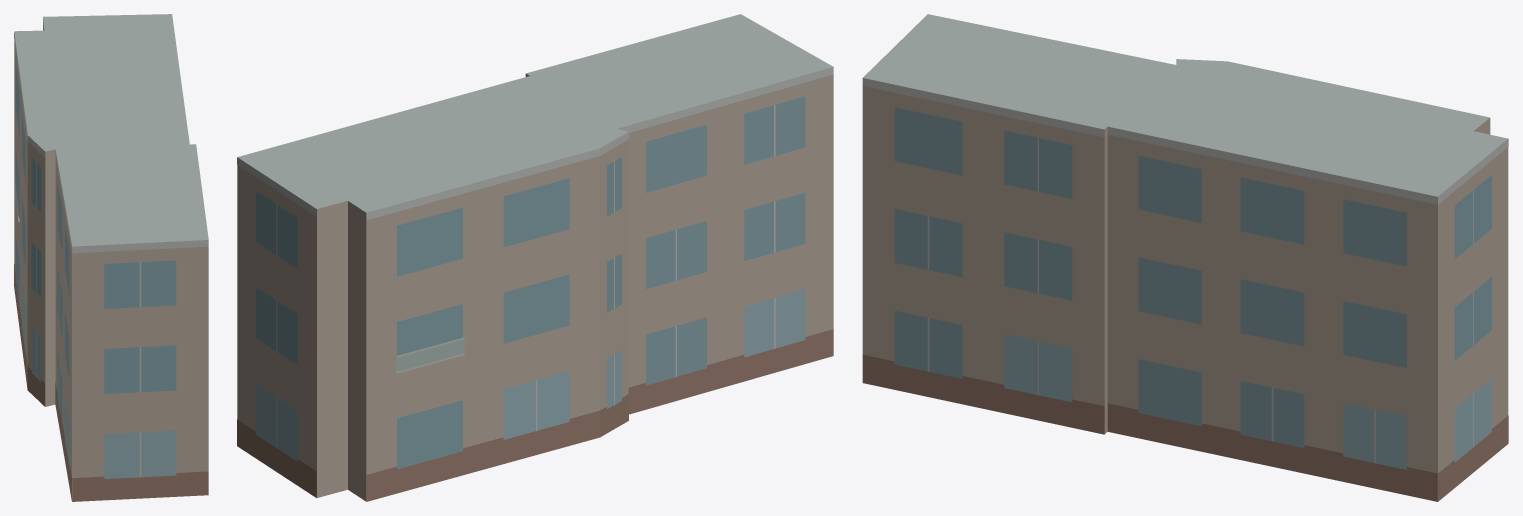
Rendered from survey-upis-32473530.glb.
The picture shows the model from 3 angles, left to right: view 1: azimuth 30°, elevation 25°; view 2: azimuth 150°, elevation 25°; view 3: azimuth 270°, elevation 25°; orthographic projection. The views are drawn at different scales.
Parts seen in each view (by area): view 1: survey-upis-32473530.tmp; view 2: survey-upis-32473530.tmp; view 3: survey-upis-32473530.tmp.
Boxes of the visible parts, x1,y1,x2,y2 form: survey-upis-32473530.tmp: (14,14,208,501); survey-upis-32473530.tmp: (237,14,833,501); survey-upis-32473530.tmp: (862,14,1508,501).
Bounding box in the file's own units: 11.96 × 9.3 × 17.85.
